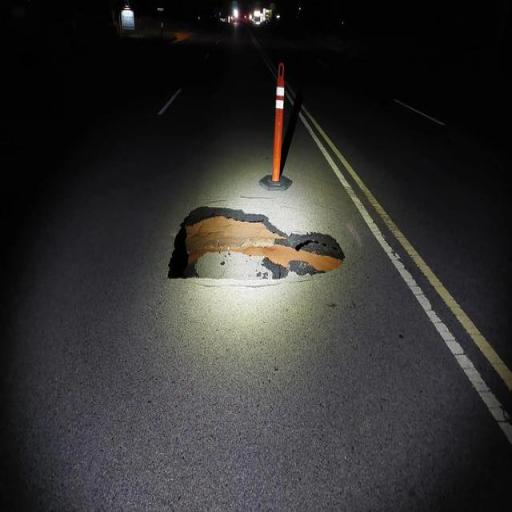Concentric_Crack: (168, 206, 344, 284)
